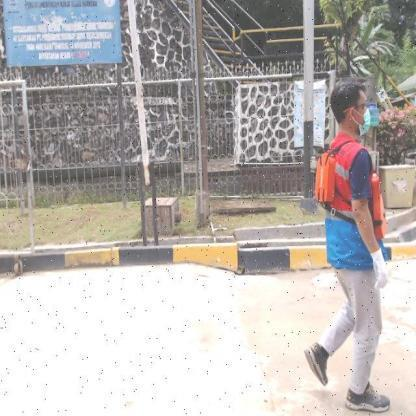boots: (344, 382, 392, 413), (304, 338, 330, 388)
gloves: (370, 248, 390, 290)
goggles: (348, 101, 370, 110)
mask: (360, 109, 372, 136)
vest: (314, 152, 388, 242)
